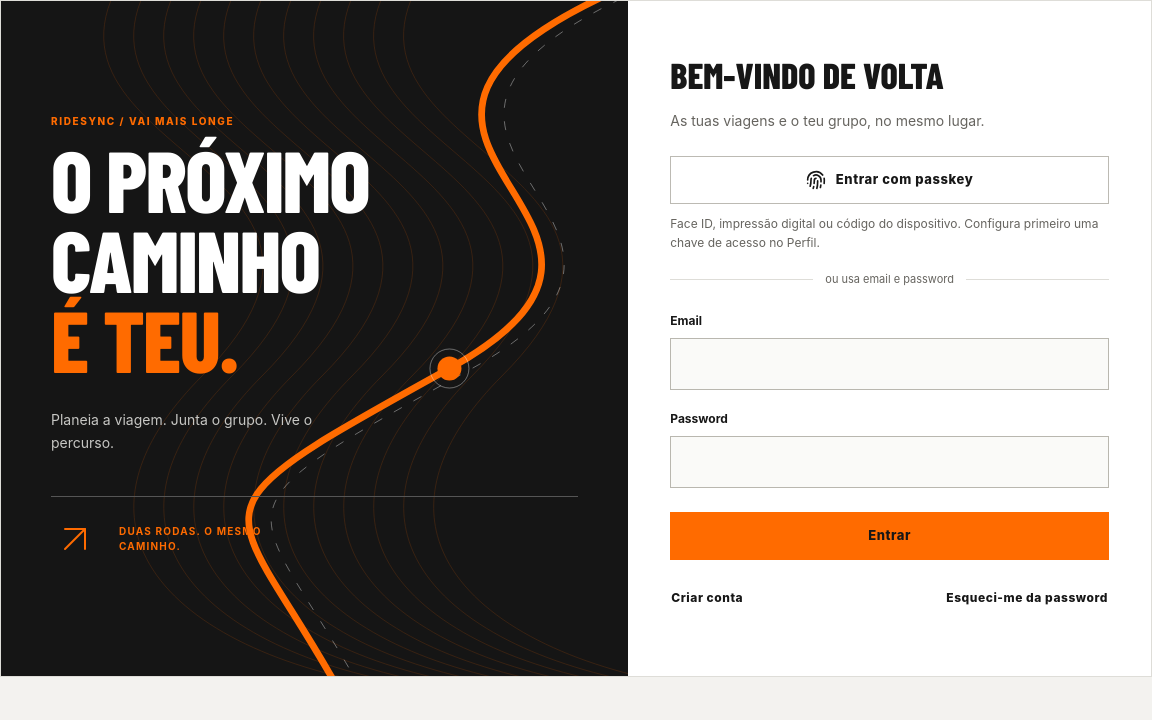
Test: authentication › explains the next step when login requires email confirmation
The width and height of the screenshot is (1152, 720).
Step 1. Type "rider@example.test" into the field labelled "Email" → (890, 364), box [670,338,1109,390]
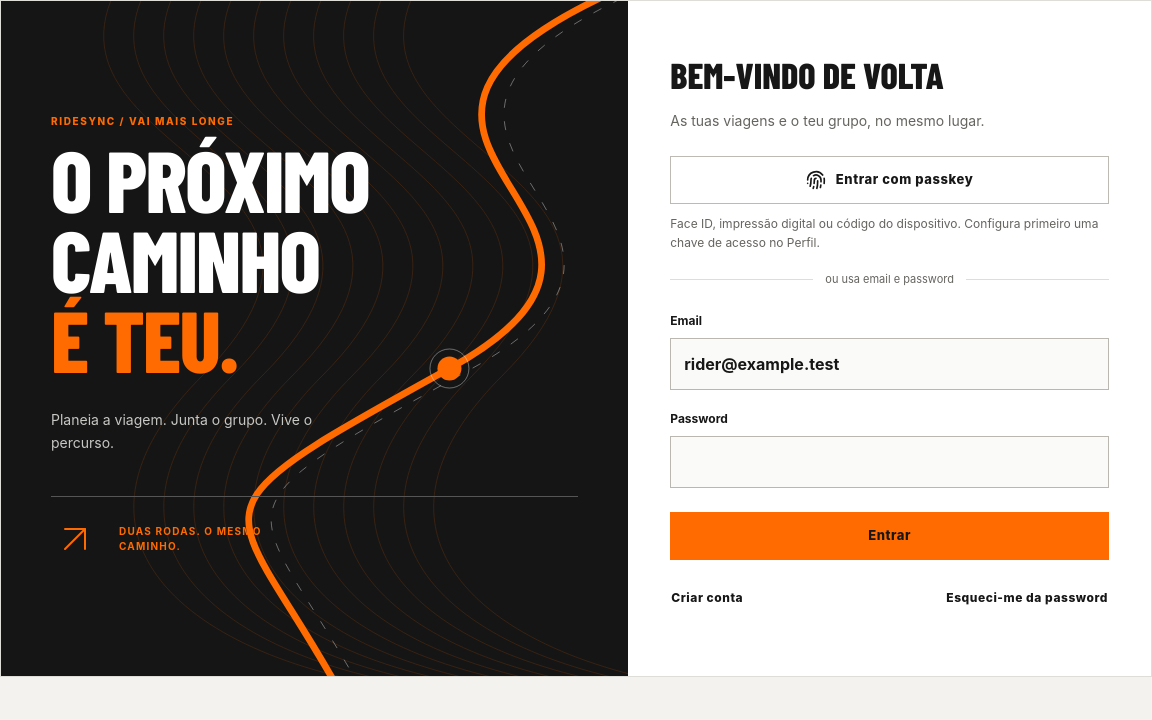
Step 2. Type "password123" into the password field labelled "Password" → (890, 462), box [670,436,1109,488]
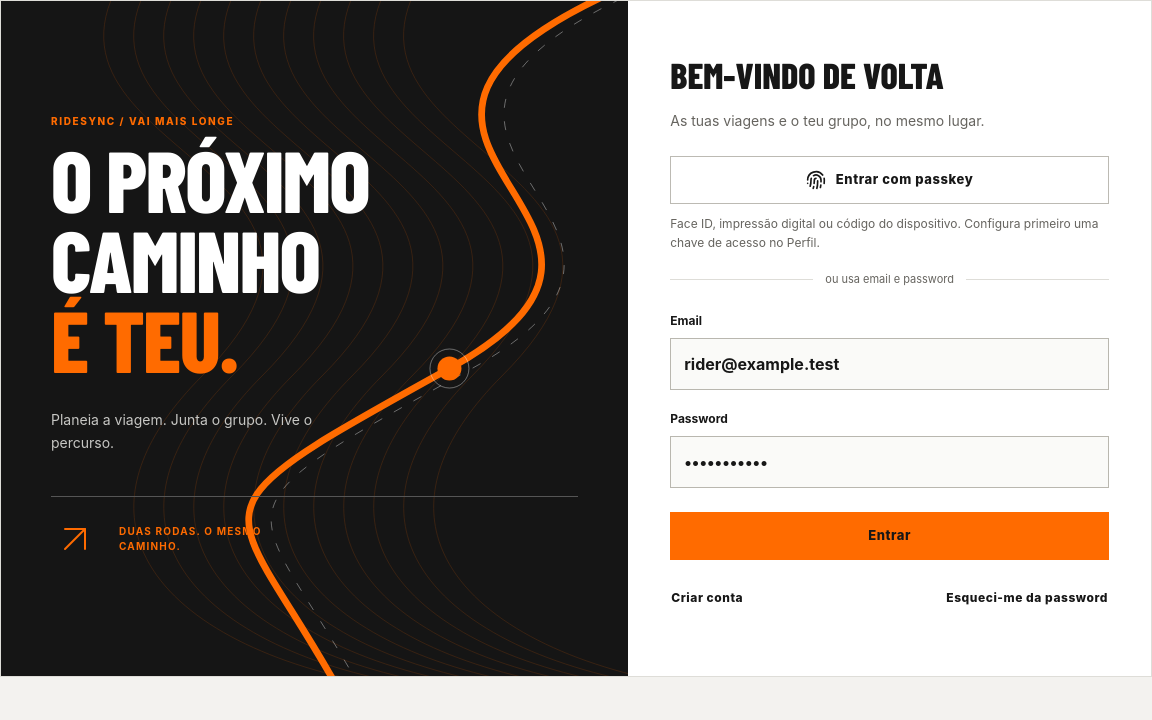
Step 3. Click the button "Entrar" → click(890, 536), box [670,512,1109,560]
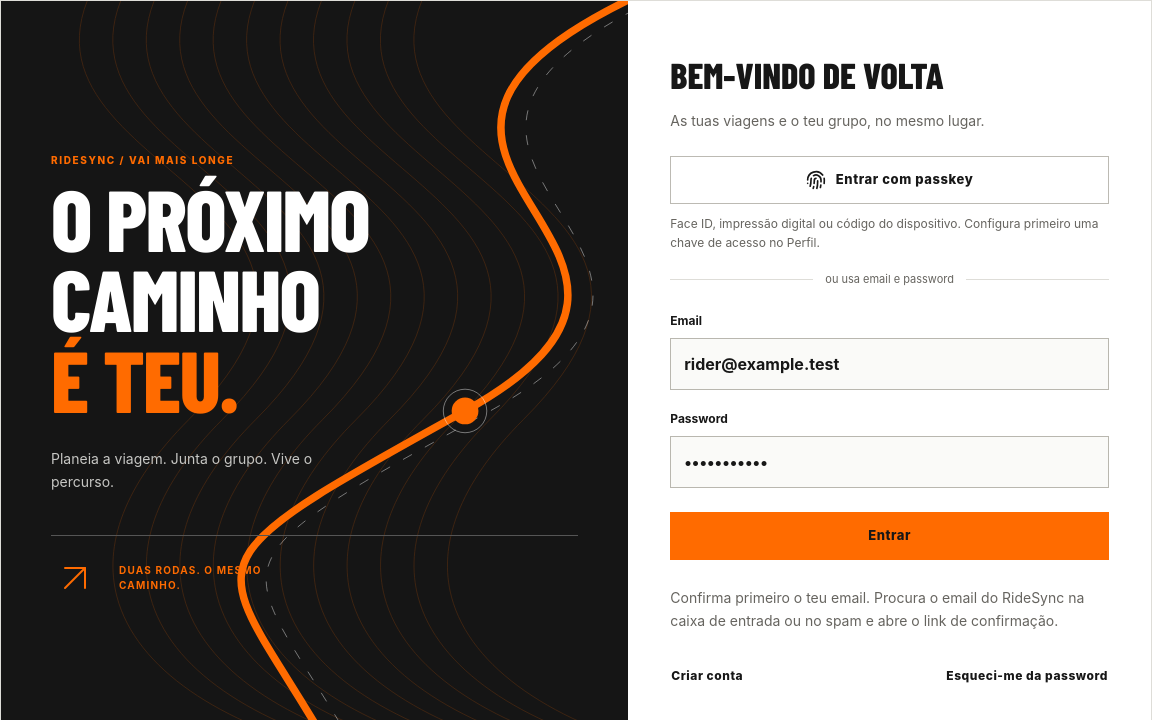
Result: the message shows "Confirma primeiro o teu email" at [670,589,1084,629]
